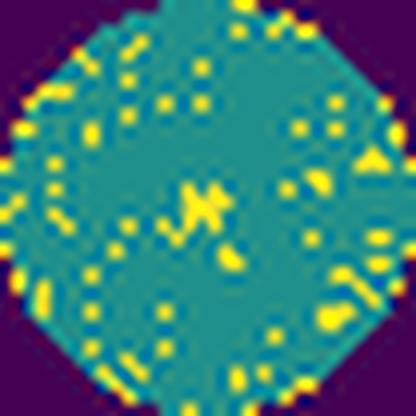Center: (151, 181, 238, 247)
